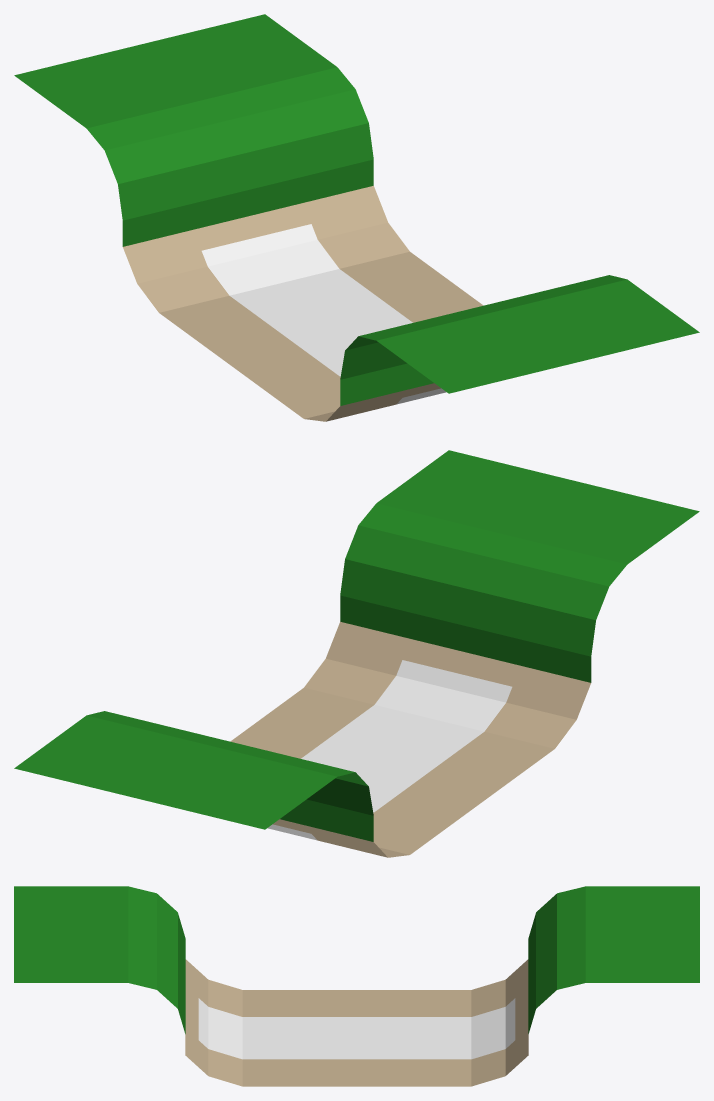
Rendered from Track_Standard_Finish_Line_Single_Blank.obj.
3 renders of one model, top to bottom at view 1: azimuth 30°, elevation 25°; view 2: azimuth 150°, elevation 25°; view 3: azimuth 270°, elevation 25°, orthographic. The views are drawn at different scales.
Parts seen in each view (by area): view 1: Grass, Dirt, Ground_Finish_Line; view 2: Grass, Dirt, Ground_Finish_Line; view 3: Grass, Dirt, Ground_Finish_Line.
Boxes of the visible parts, <box> form: Grass: <box>14,14,699,405</box>; Dirt: <box>123,185,483,421</box>; Ground_Finish_Line: <box>201,224,446,404</box>; Grass: <box>14,450,699,841</box>; Dirt: <box>230,621,590,857</box>; Ground_Finish_Line: <box>267,660,512,840</box>; Grass: <box>14,886,699,1034</box>; Dirt: <box>185,959,528,1086</box>; Ground_Finish_Line: <box>198,998,515,1059</box>.
Size of the model in its own units: 1 by 0.5 by 3.
